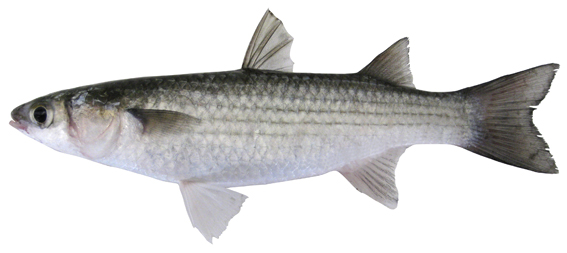fish: (8, 9, 560, 243)
